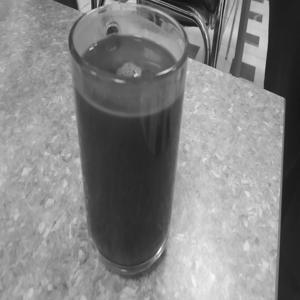coffee: (61, 0, 209, 277)
